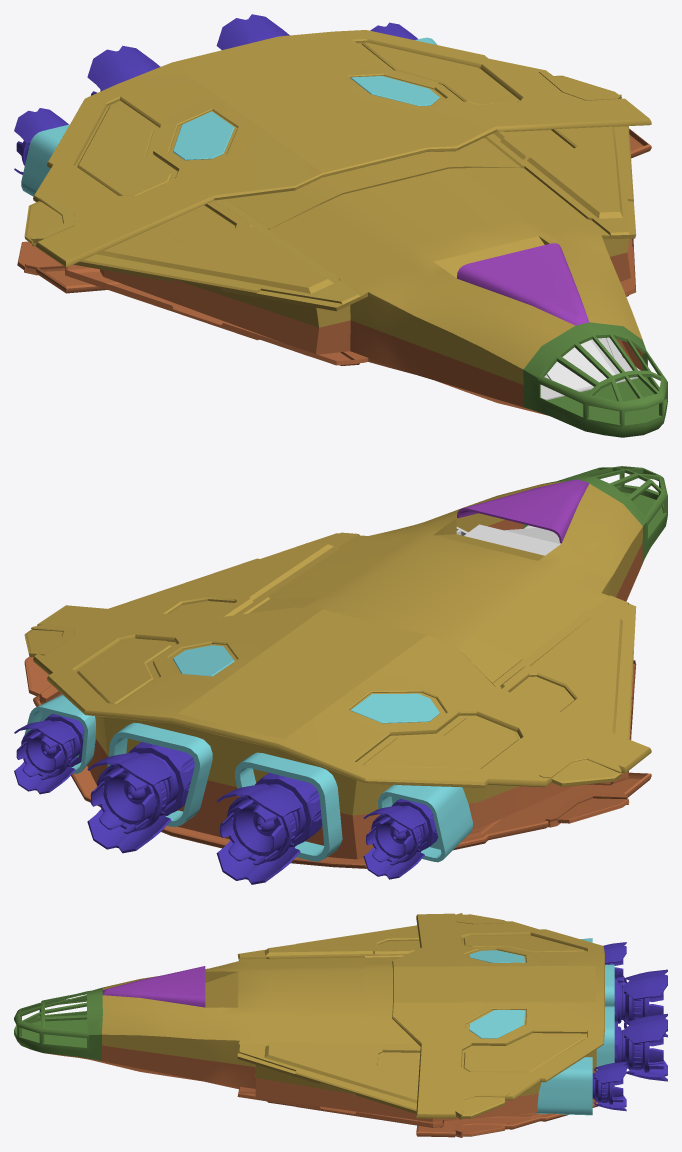
File: UVW SHIP TEST 2.fbx
3 renders of one model, top to bottom at view 1: azimuth 30°, elevation 25°; view 2: azimuth 150°, elevation 25°; view 3: azimuth 270°, elevation 25°, orthographic. The views are drawn at different scales.
Parts seen in each view (by area): view 1: ShipHull_Upper, ShipHull_Lower, ShipHull_Cockpit, ShipHull_UpperDeckCorridor, ShipHull_Aux01, ShipHull_Engine3, ShipHull_Guard4, ShipHull_Aux02, ShipHull_Engine2, ShipHull_Engine4, Box589, Box583; view 2: ShipHull_Upper, ShipHull_Lower, ShipHull_Engine2, ShipHull_Engine3, ShipHull_Engine4, ShipHull_Engine1, ShipHull_Guard3, ShipHull_UpperDeckCorridor, ShipHull_Cockpit, ShipHull_Guard4, ShipHull_Guard2, ShipHull_Aux01 (+3 smaller); view 3: ShipHull_Upper, ShipHull_Lower, ShipHull_Cockpit, ShipHull_Engine2, ShipHull_Guard1, ShipHull_UpperDeckCorridor, ShipHull_Engine3, ShipHull_Engine1, ShipHull_Aux02, ShipHull_Guard2, ShipHull_Engine4, ShipHull_Aux01 (+1 smaller).
Part boxes in pixels (bbox=[...]): ShipHull_Upper: bbox=[24, 30, 651, 384]; ShipHull_Lower: bbox=[17, 128, 651, 415]; ShipHull_Cockpit: bbox=[523, 322, 667, 437]; ShipHull_UpperDeckCorridor: bbox=[457, 243, 588, 325]; ShipHull_Aux01: bbox=[173, 111, 234, 160]; ShipHull_Engine3: bbox=[87, 45, 160, 95]; ShipHull_Guard4: bbox=[21, 124, 69, 196]; ShipHull_Aux02: bbox=[350, 76, 439, 106]; ShipHull_Engine2: bbox=[216, 14, 289, 49]; ShipHull_Engine4: bbox=[14, 108, 68, 174]; Box589: bbox=[546, 359, 615, 389]; Box583: bbox=[540, 337, 640, 400]; ShipHull_Upper: bbox=[24, 481, 651, 815]; ShipHull_Lower: bbox=[24, 519, 651, 868]; ShipHull_Engine2: bbox=[87, 742, 194, 853]; ShipHull_Engine3: bbox=[216, 773, 322, 884]; ShipHull_Engine4: bbox=[363, 798, 437, 879]; ShipHull_Engine1: bbox=[14, 714, 95, 794]; ShipHull_Guard3: bbox=[234, 752, 342, 861]; ShipHull_UpperDeckCorridor: bbox=[457, 479, 589, 543]; ShipHull_Cockpit: bbox=[523, 466, 667, 563]; ShipHull_Guard4: bbox=[378, 784, 472, 862]; ShipHull_Guard2: bbox=[107, 722, 212, 826]; ShipHull_Aux01: bbox=[350, 693, 439, 723]; ShipHull_Upper: bbox=[102, 913, 604, 1119]; ShipHull_Lower: bbox=[43, 1045, 598, 1137]; ShipHull_Cockpit: bbox=[14, 987, 102, 1060]; ShipHull_Engine2: bbox=[614, 1013, 667, 1081]; ShipHull_Guard1: bbox=[535, 1057, 592, 1115]; ShipHull_UpperDeckCorridor: bbox=[102, 966, 205, 1007]; ShipHull_Engine3: bbox=[614, 969, 667, 1037]; ShipHull_Engine1: bbox=[592, 1061, 626, 1111]; ShipHull_Aux02: bbox=[469, 1010, 524, 1038]; ShipHull_Guard2: bbox=[596, 1006, 614, 1086]; ShipHull_Engine4: bbox=[603, 942, 626, 985]; ShipHull_Aux01: bbox=[469, 950, 524, 962].
Bounding box in the file's own units: 3932 × 772 × 5316.
